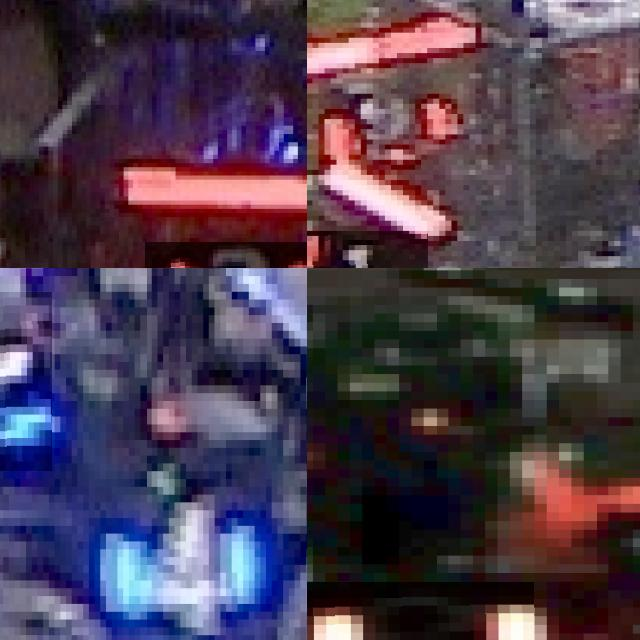B4: (89, 483, 260, 639), (0, 291, 51, 471)
R1: (307, 230, 427, 268)
R2: (145, 242, 307, 268)
Rs: (307, 581, 534, 640)
